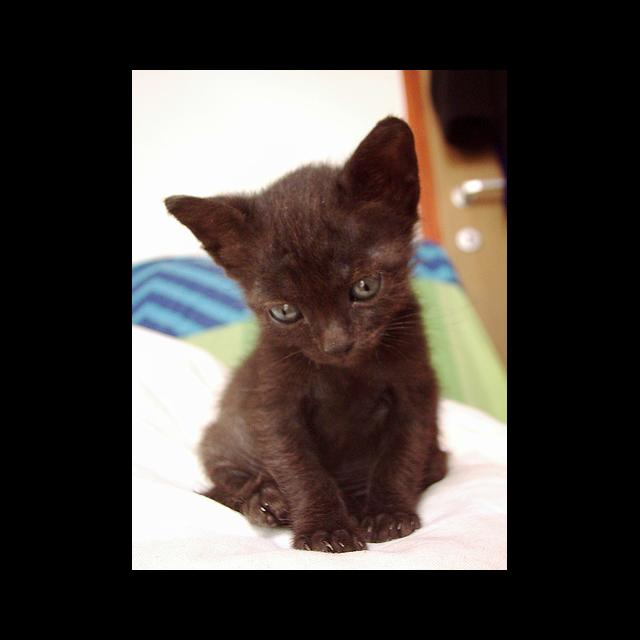animals: (166, 117, 410, 356)
